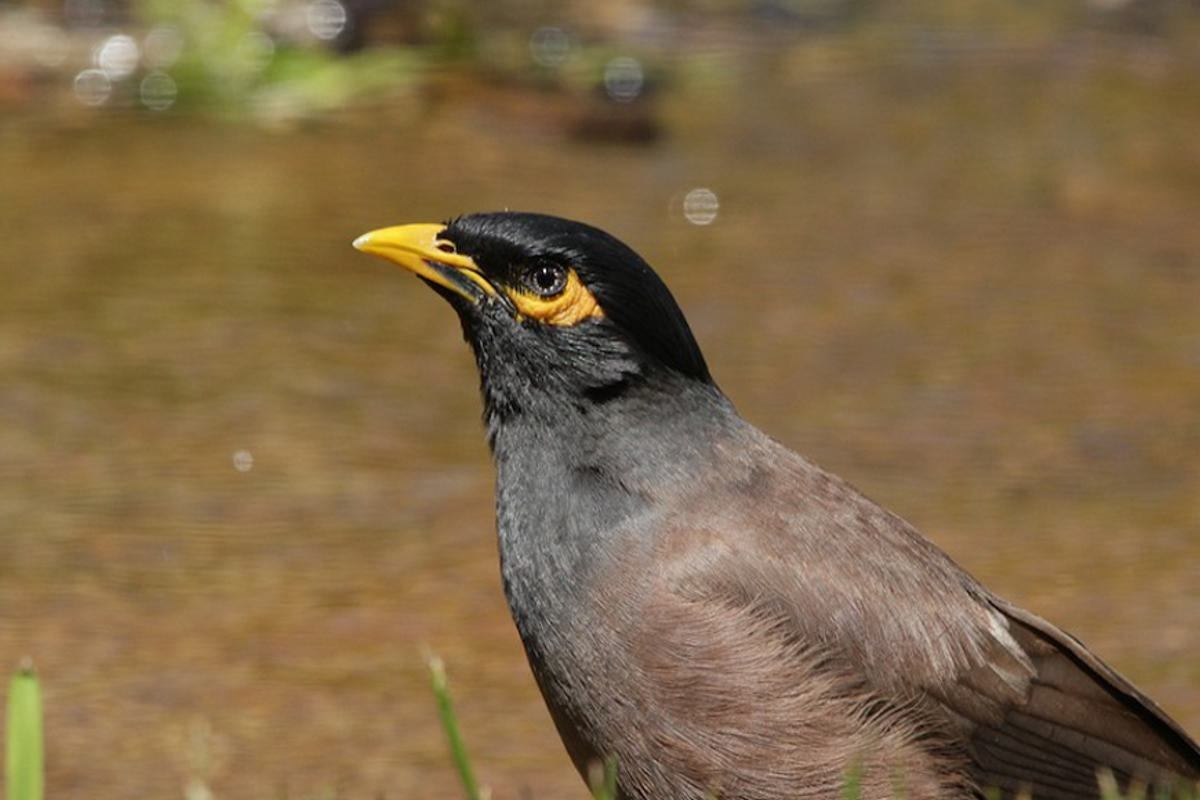myna: (355, 191, 1118, 777)
